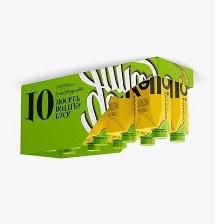carton: (132, 73, 172, 140), (105, 83, 139, 145), (168, 78, 191, 144), (83, 101, 110, 146), (134, 131, 156, 148)
